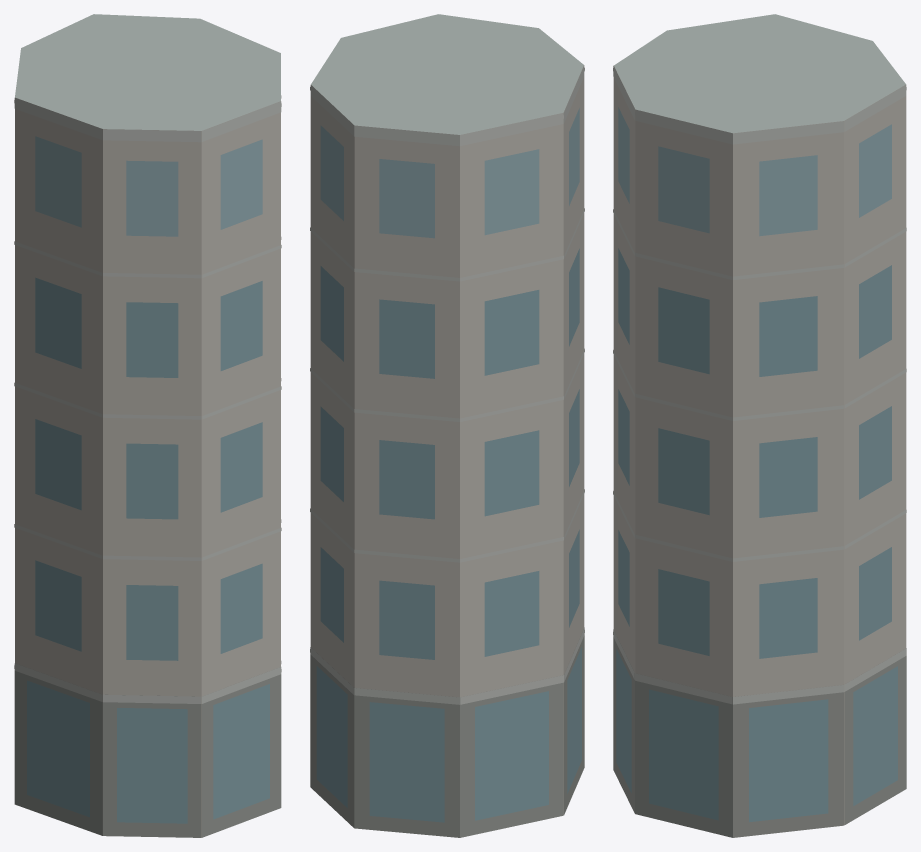
The model's file is survey-upis-32817758.glb.
3 views of the same model, side by side, from view 1: azimuth 30°, elevation 25°; view 2: azimuth 150°, elevation 25°; view 3: azimuth 270°, elevation 25° (orthographic).
Visible parts, largest first — view 1: survey-upis-32817758.tmp; view 2: survey-upis-32817758.tmp; view 3: survey-upis-32817758.tmp.
Part boxes in pixels (x1,y1,x2,y2): survey-upis-32817758.tmp: [14, 14, 281, 837]; survey-upis-32817758.tmp: [310, 14, 584, 837]; survey-upis-32817758.tmp: [613, 14, 906, 837].
Bounding box in the file's own units: 5.56 × 15.25 × 5.76.
